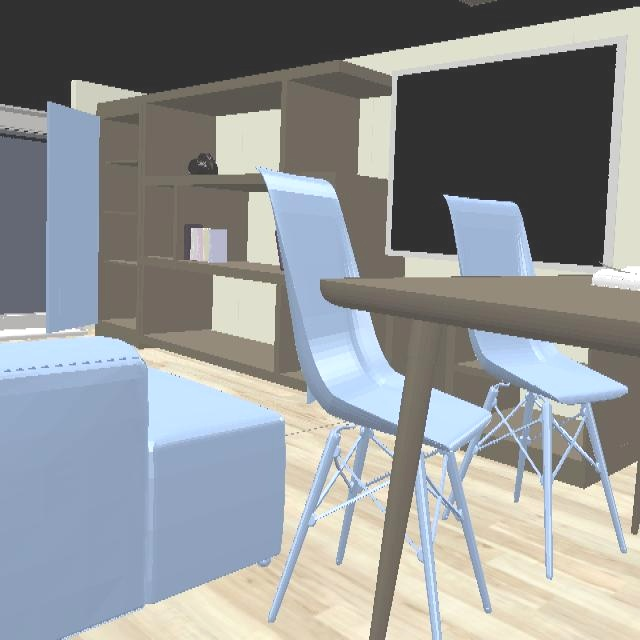book: (184, 225, 228, 263)
chair: (261, 168, 404, 621), (461, 330, 628, 578), (415, 390, 491, 638), (445, 198, 535, 277)
monitor: (389, 38, 626, 264)
shelf: (98, 62, 402, 389)
sofa: (0, 337, 285, 638)
